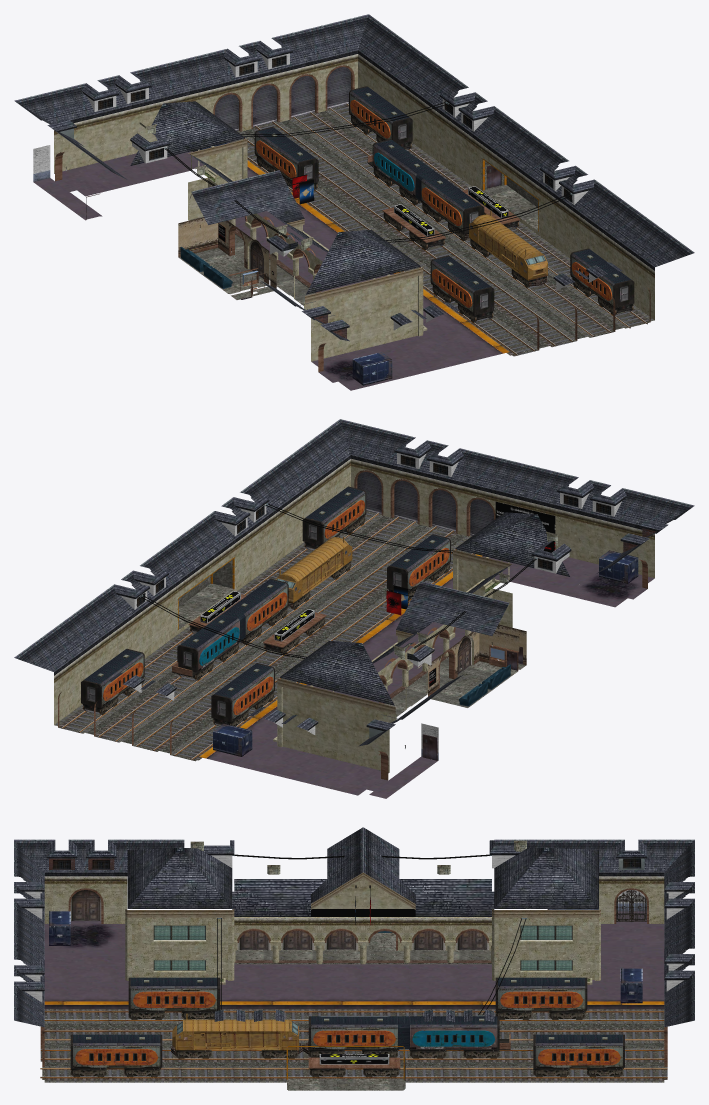
Rendered from awp_kosovo_trainstation.glb.
3 views of the same model, one above another, from view 1: azimuth 30°, elevation 25°; view 2: azimuth 150°, elevation 25°; view 3: azimuth 270°, elevation 25° (orthographic). The views are drawn at different scales.
Visible parts, largest first — view 1: *0, *1, *7, *3; view 2: *0, *1, *7, *3; view 3: *0, *1, *7, *3, *4.
Part boxes in pixels (left/top/right/bottom): *0: left=14, top=14, right=694, bottom=390; *1: left=244, top=112, right=611, bottom=355; *7: left=350, top=100, right=612, bottom=300; *3: left=329, top=103, right=647, bottom=328; *0: left=14, top=419, right=694, bottom=798; *1: left=97, top=516, right=473, bottom=760; *7: left=103, top=500, right=364, bottom=700; *3: left=61, top=512, right=378, bottom=732; *0: left=14, top=827, right=694, bottom=1090; *1: left=40, top=1010, right=664, bottom=1059; *7: left=75, top=1049, right=620, bottom=1065; *3: left=40, top=1068, right=667, bottom=1078; *4: left=616, top=890, right=646, bottom=921.
Bounding box in the file's own units: 47.04 × 12.96 × 74.88.
Materials: 71 (71 with a texture image).
